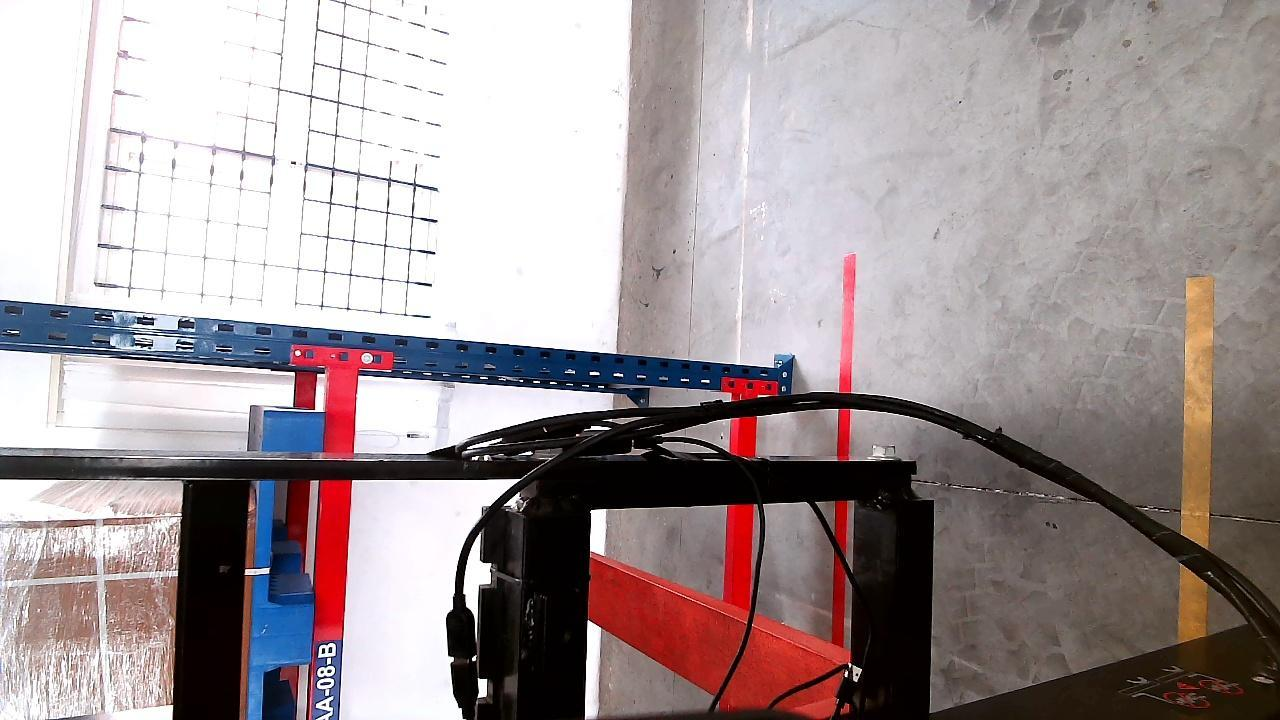red_line: (832, 251, 858, 641)
yellow_line: (1181, 271, 1214, 627)
